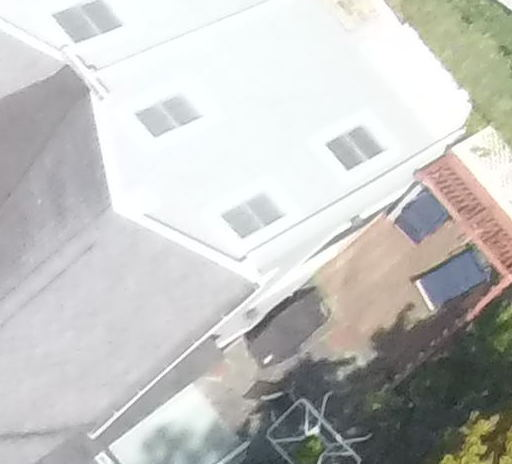barbecue: (243, 272, 349, 373)
table: (257, 390, 383, 464)
